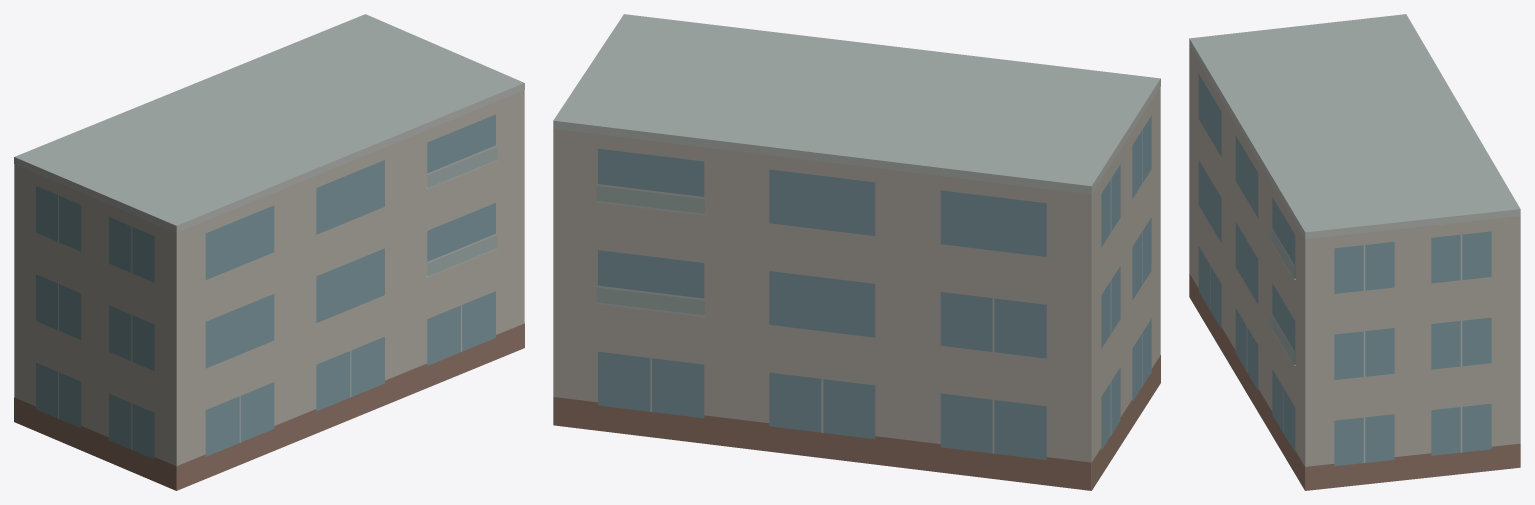
The model's file is survey-upis-32722798.glb.
3 views of the same model, side by side, from view 1: azimuth 30°, elevation 25°; view 2: azimuth 150°, elevation 25°; view 3: azimuth 270°, elevation 25° (orthographic). The views are drawn at different scales.
Parts seen in each view (by area): view 1: survey-upis-32722798.tmp; view 2: survey-upis-32722798.tmp; view 3: survey-upis-32722798.tmp.
Part boxes in pixels (x1=…): survey-upis-32722798.tmp: x1=14, y1=14, x2=524, y2=490; survey-upis-32722798.tmp: x1=553, y1=14, x2=1160, y2=490; survey-upis-32722798.tmp: x1=1189, y1=14, x2=1520, y2=490.
Bounding box in the file's own units: 16.58 × 9.15 × 10.64.
